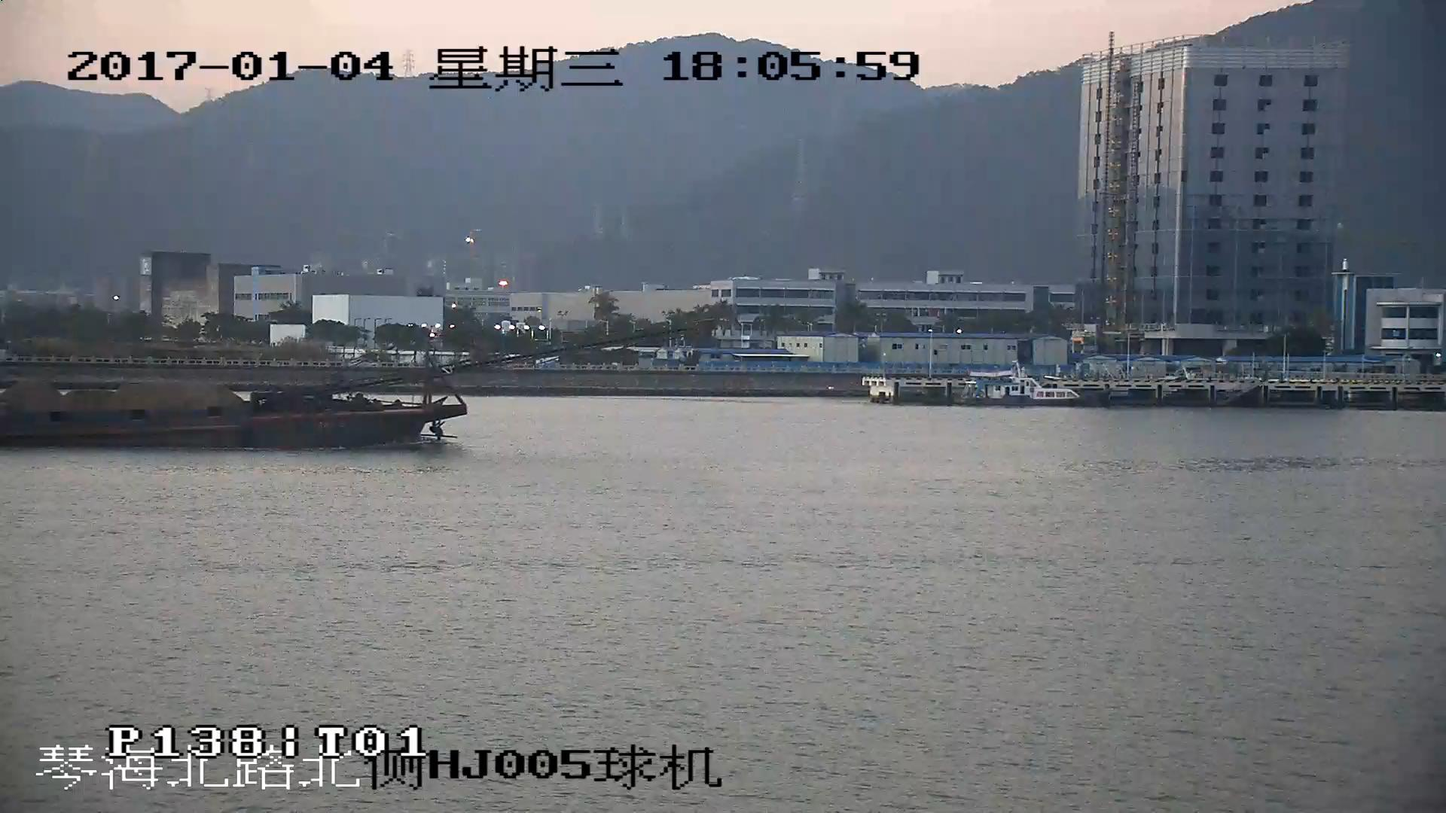ore carrier: (0, 333, 642, 447)
